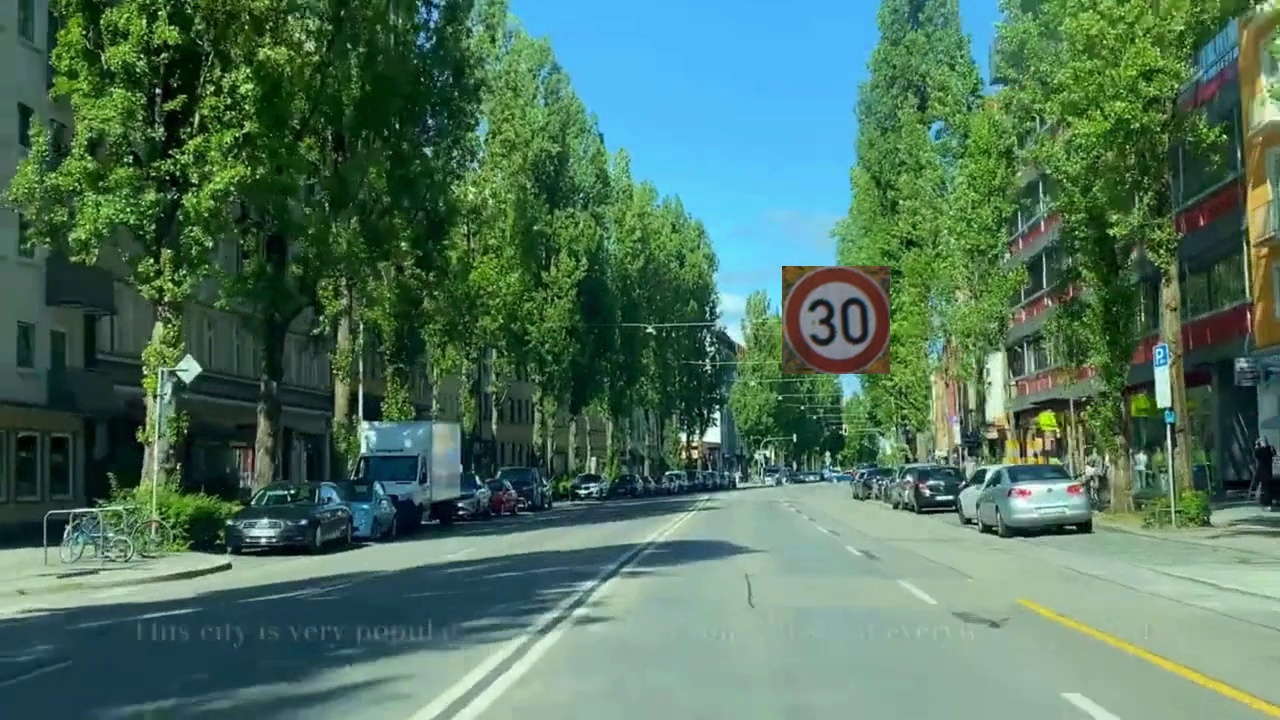Speed 30: (782, 266, 890, 374)
